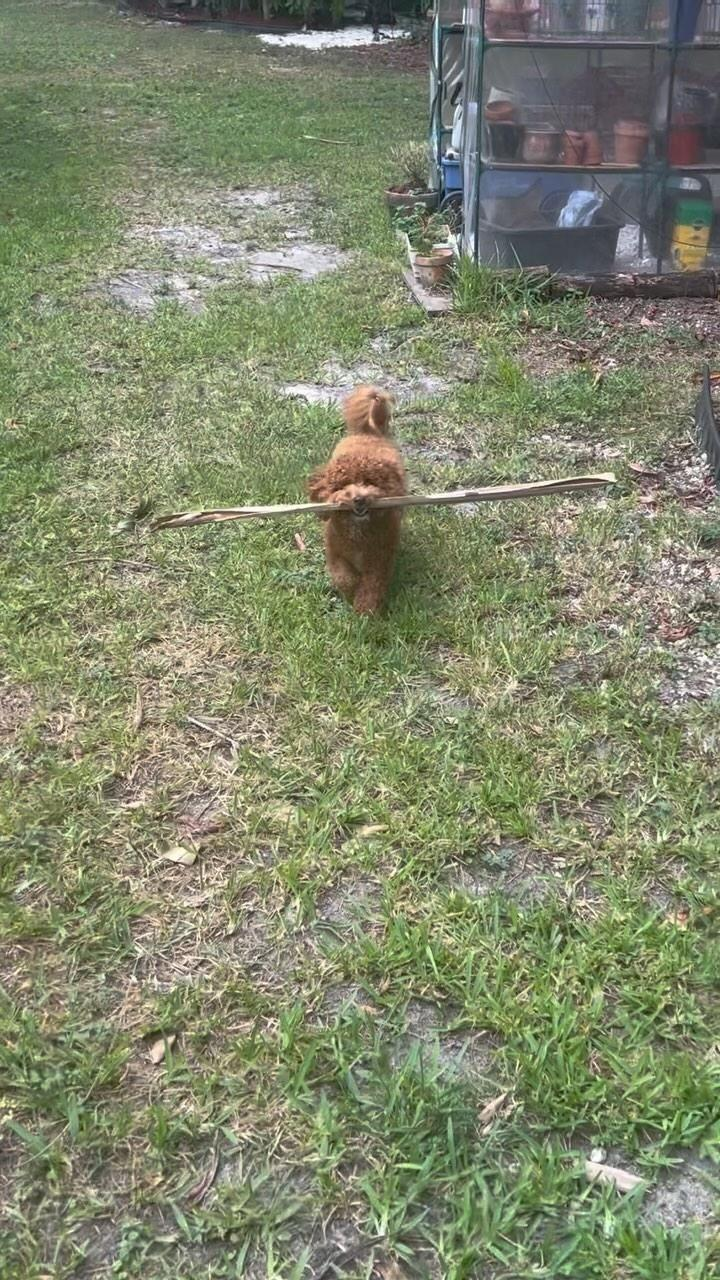adult_dog: (305, 384, 410, 626)
